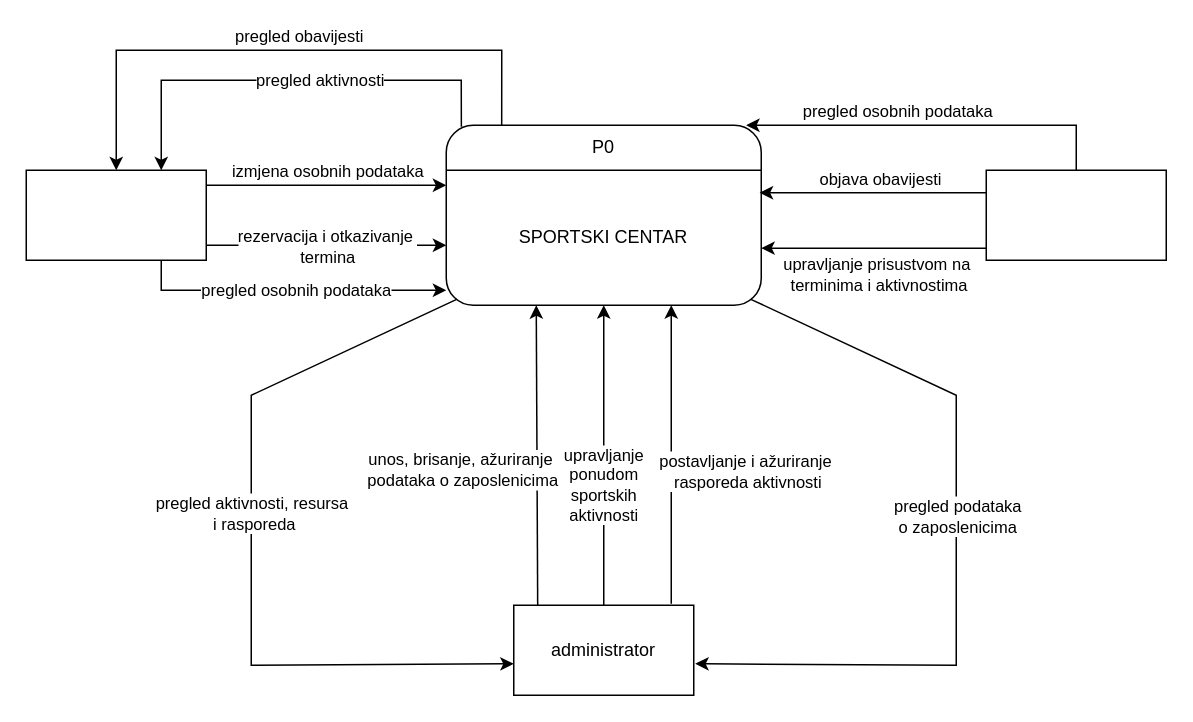
Image size: 1193x722. Some labels were removed from this diagram. The box of each missing label's shape, as (x1, y1, x2, y2) in pixels:
zaposlenici: (985, 169, 1166, 260)
članovi sportskog centra: (25, 169, 206, 260)
